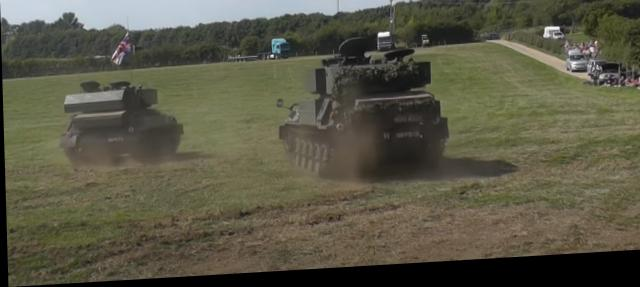tank: (297, 65, 435, 174), (62, 82, 180, 169)
